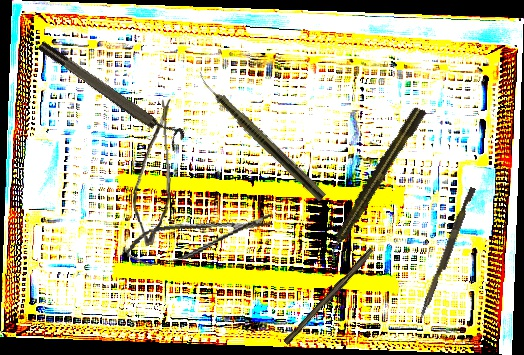Fixation Ring: (35, 32, 188, 152)
Handpiece: (191, 69, 329, 203), (321, 103, 429, 262)
Micro Scissor: (122, 206, 277, 270), (125, 96, 182, 247)
Pusher: (418, 185, 476, 323)
Scalpel Handle: (283, 246, 376, 348)
